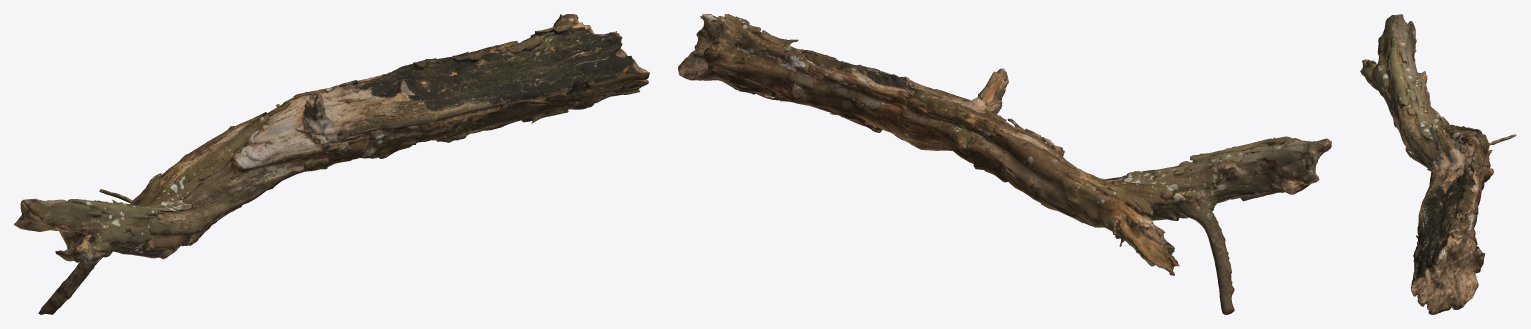
Rendered from dead_tree_trunk_02.glb.
3 views of the same model, side by side, from view 1: azimuth 30°, elevation 25°; view 2: azimuth 150°, elevation 25°; view 3: azimuth 270°, elevation 25° (orthographic). The views are drawn at different scales.
Parts seen in each view (by area): view 1: dead_tree_trunk_02; view 2: dead_tree_trunk_02; view 3: dead_tree_trunk_02.
Boxes of the visible parts, x1,y1,x2,y2 form: dead_tree_trunk_02: [14, 14, 649, 314]; dead_tree_trunk_02: [678, 14, 1331, 314]; dead_tree_trunk_02: [1360, 14, 1516, 314].
Bounding box in the file's own units: 2 × 0.5206 × 0.5213.
Materials: 1 (1 with a texture image).
